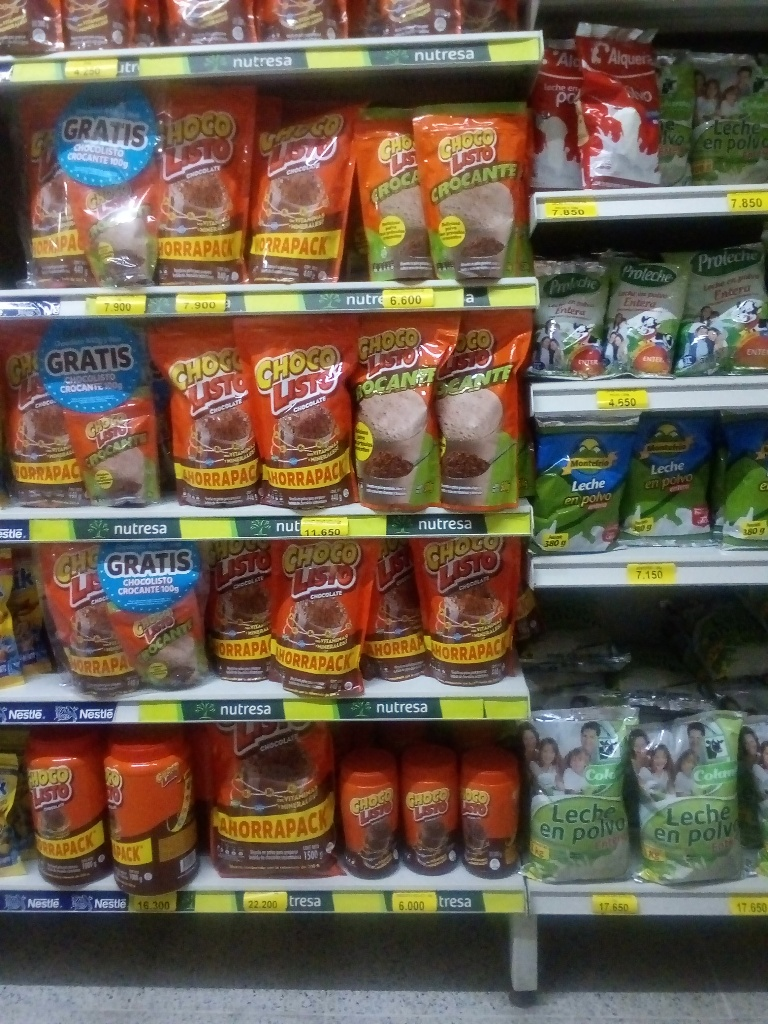COL0170102DYP10000: (82, 160, 161, 287)
COL0170102DYP25000: (350, 100, 449, 281)
COL0170102DYP50000: (359, 313, 449, 512)
COL0170103DYP1,500: (204, 723, 342, 876)
COL0170103DYP44000: (152, 319, 263, 506)
COL0170103TRR00100: (26, 726, 115, 888)
COL0170103TRR30000: (344, 746, 403, 881)
